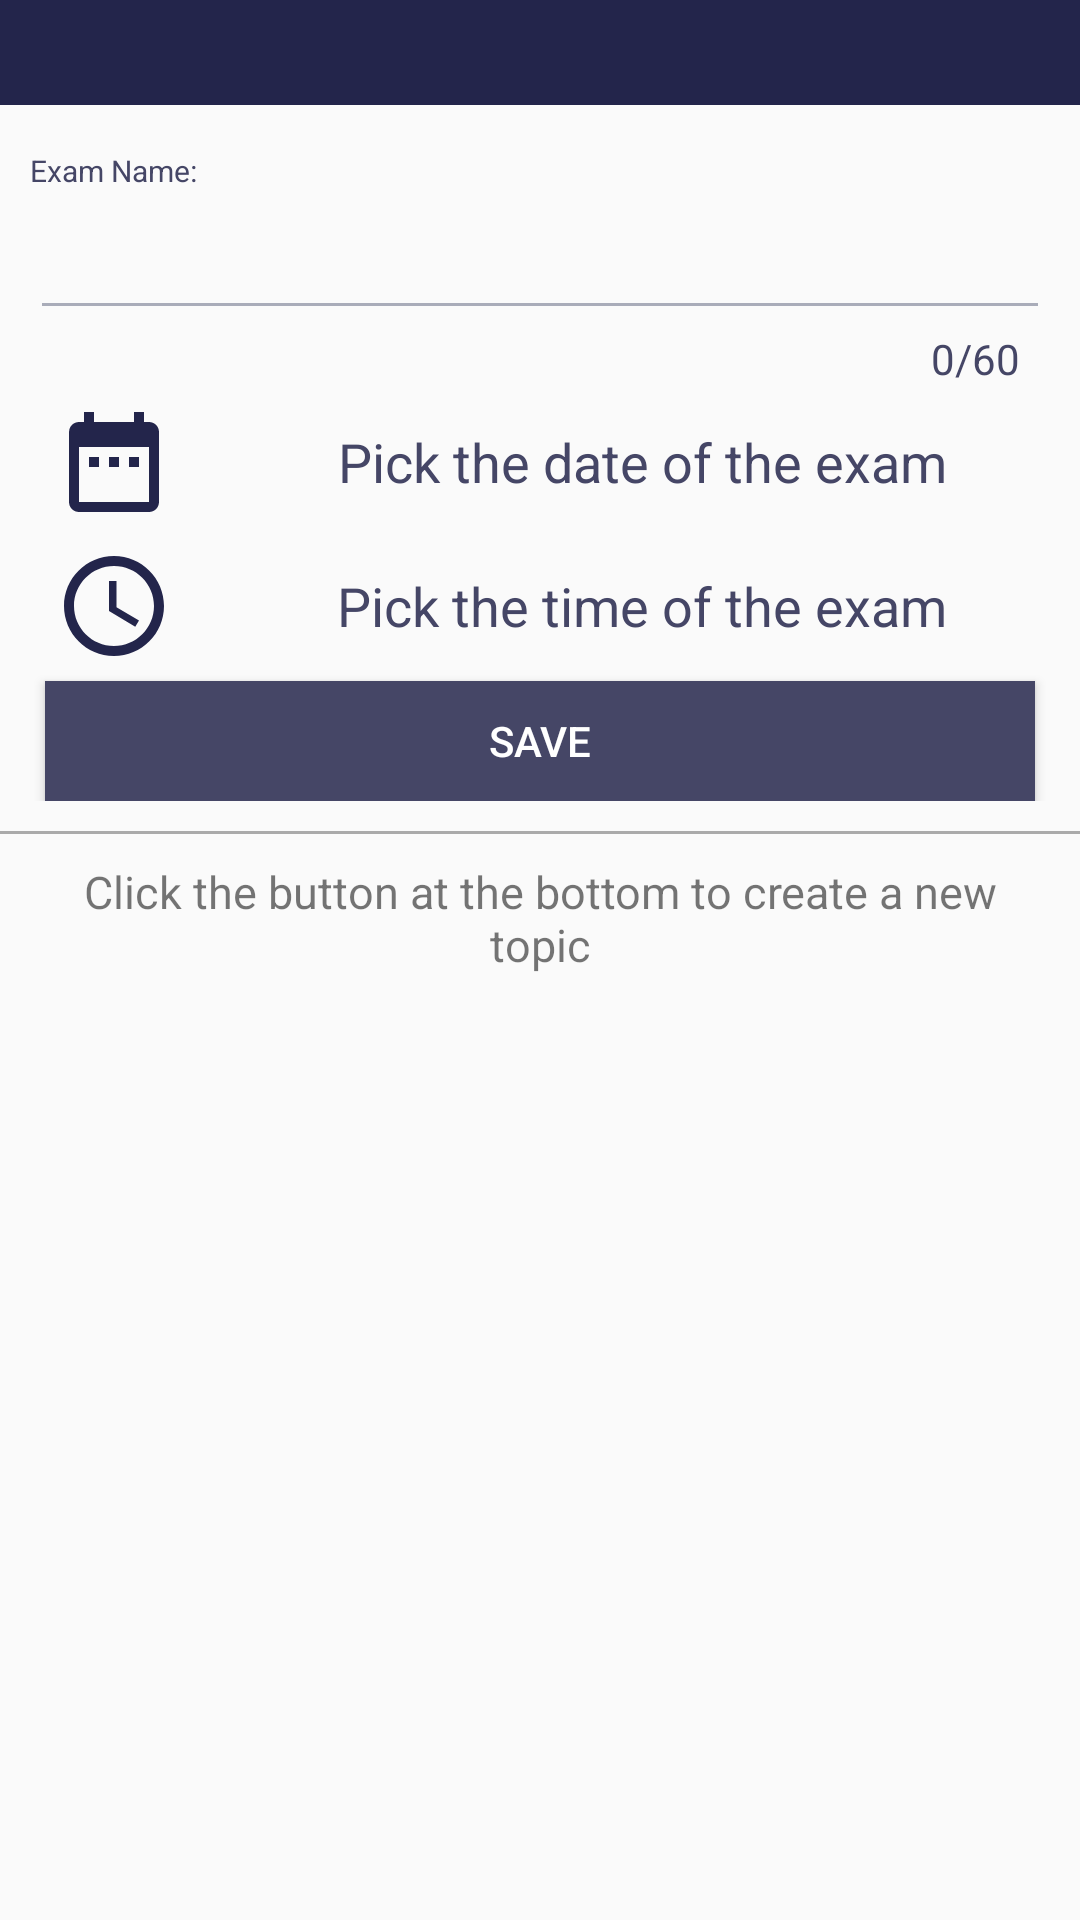

Icons on this 1080px x 1920px Android screen, each with its box as (x1, y1, x2, y2):
access time: (64, 556, 164, 656)
date range: (69, 412, 159, 512)
